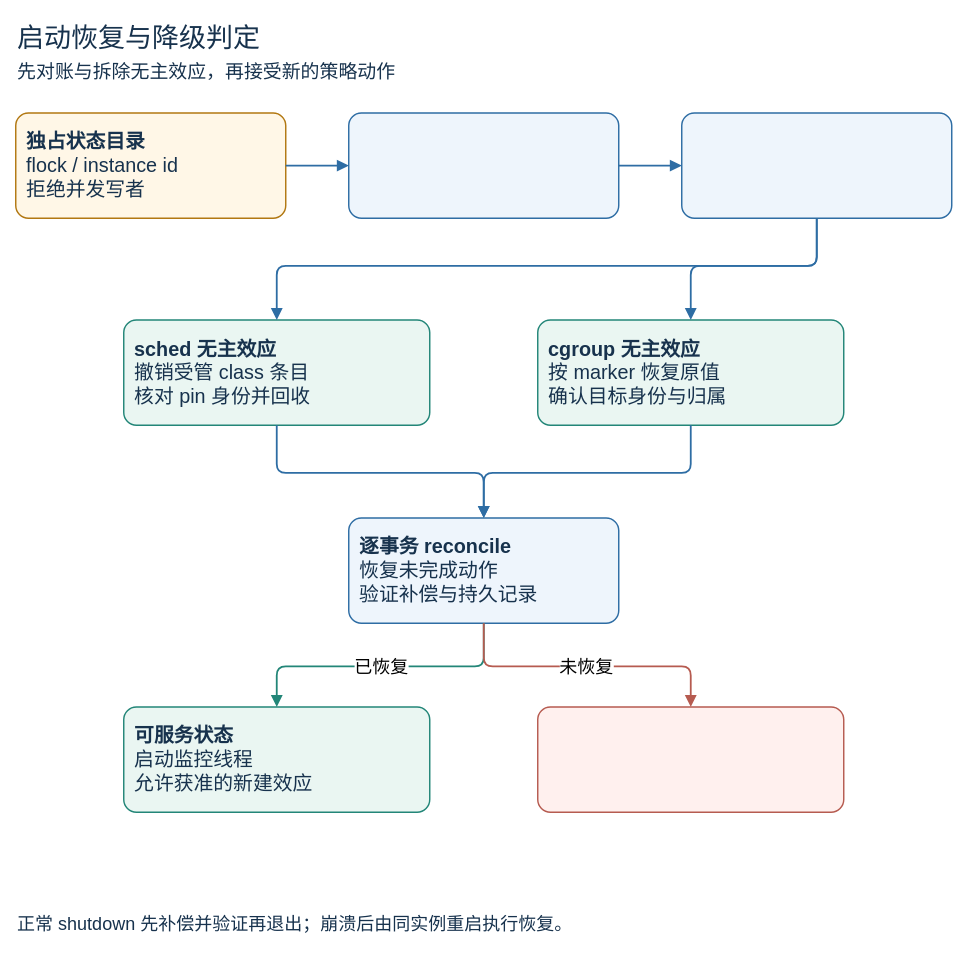
Some shapes in this 968 by 962 pixel diagram are drawn without their labels. Each missing label, with the centre of its shape:
DEGRADED 冲突 / 恢复未确认 保留现场，仅放行拆除: point (690, 759)
recover_orphan 核对 runtime / marker 只处理本实例资源: point (816, 165)
修复日志并对齐世代 截断撕裂尾行 对齐最大已提交世代: point (483, 165)
